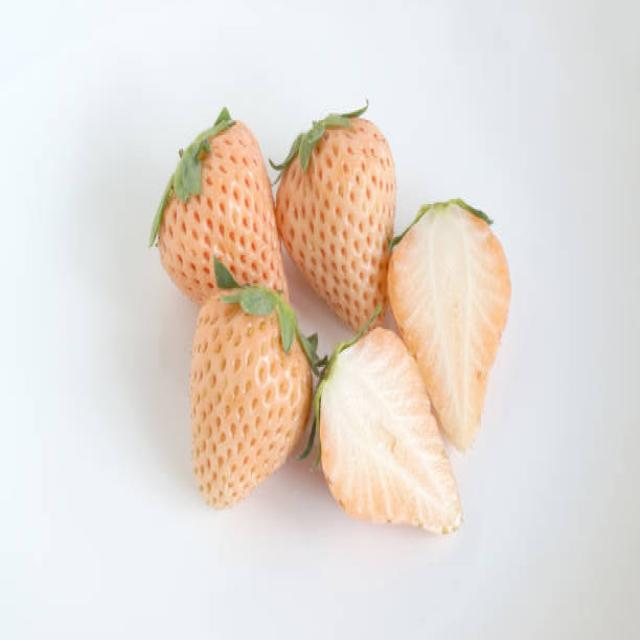Healthy Fruit: (277, 114, 398, 334), (189, 288, 311, 504), (158, 116, 289, 308)
